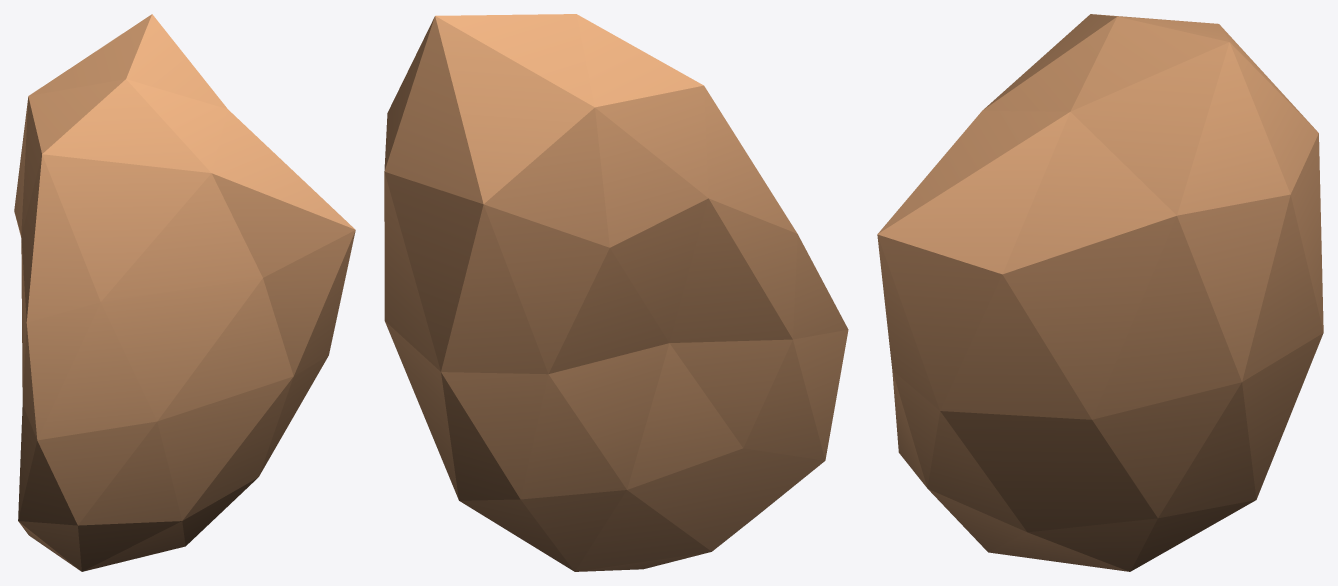
The model's file is stone_f.fbx.
The picture shows the model from 3 angles, left to right: view 1: azimuth 30°, elevation 25°; view 2: azimuth 150°, elevation 25°; view 3: azimuth 270°, elevation 25°; orthographic projection. The views are drawn at different scales.
Visible parts, largest first — view 1: Icosphere.008; view 2: Icosphere.008; view 3: Icosphere.008.
Part boxes in pixels (bbox=[...]): Icosphere.008: bbox=[14, 14, 355, 571]; Icosphere.008: bbox=[384, 14, 848, 571]; Icosphere.008: bbox=[877, 14, 1323, 571].
Size of the model in its own units: 5.43 by 8.06 by 5.6.
1 material, 1 textured.
